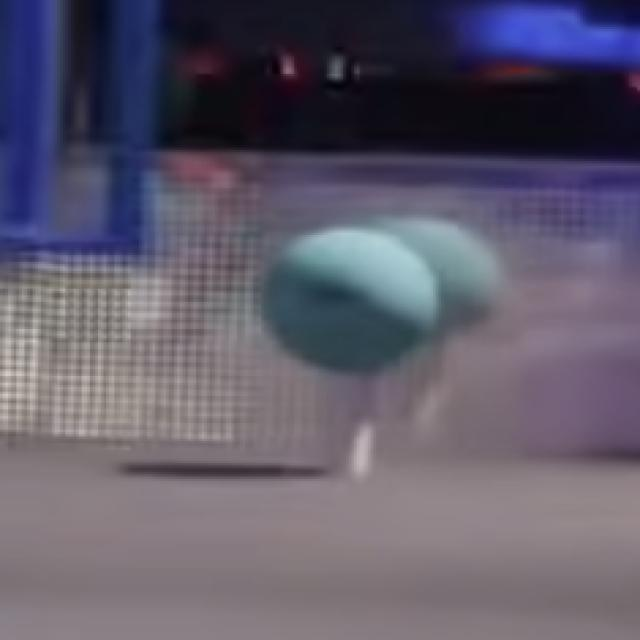Algae: (258, 228, 436, 378)
Coral: (322, 374, 378, 478)
